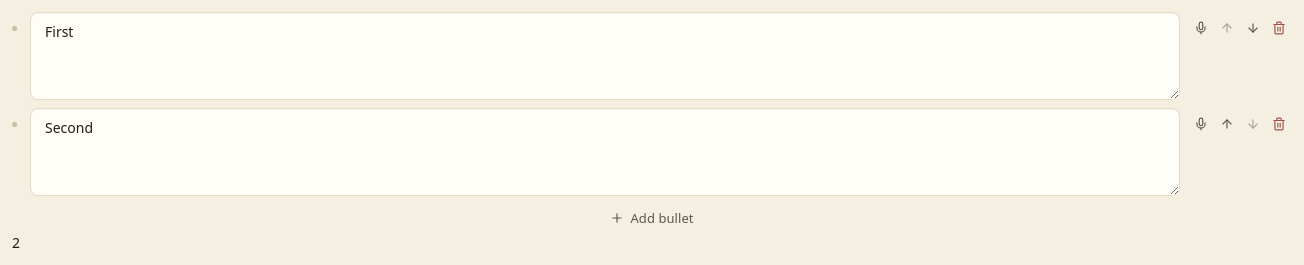
Test: BulletListEditor › reorders bullets with the move buttons
Click the button named "Move bullet 2 up" at (1227, 124), box [1214,111,1240,137]
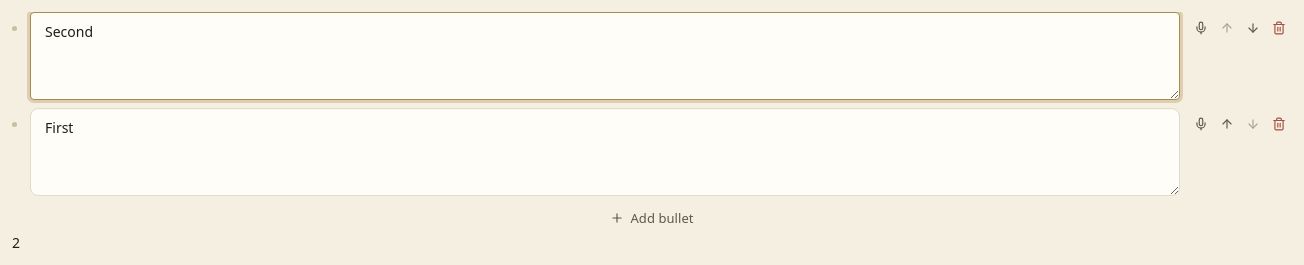
expect the text box named "Achievements — bullet 1" holds "Second": met, box [30,12,1180,100]
